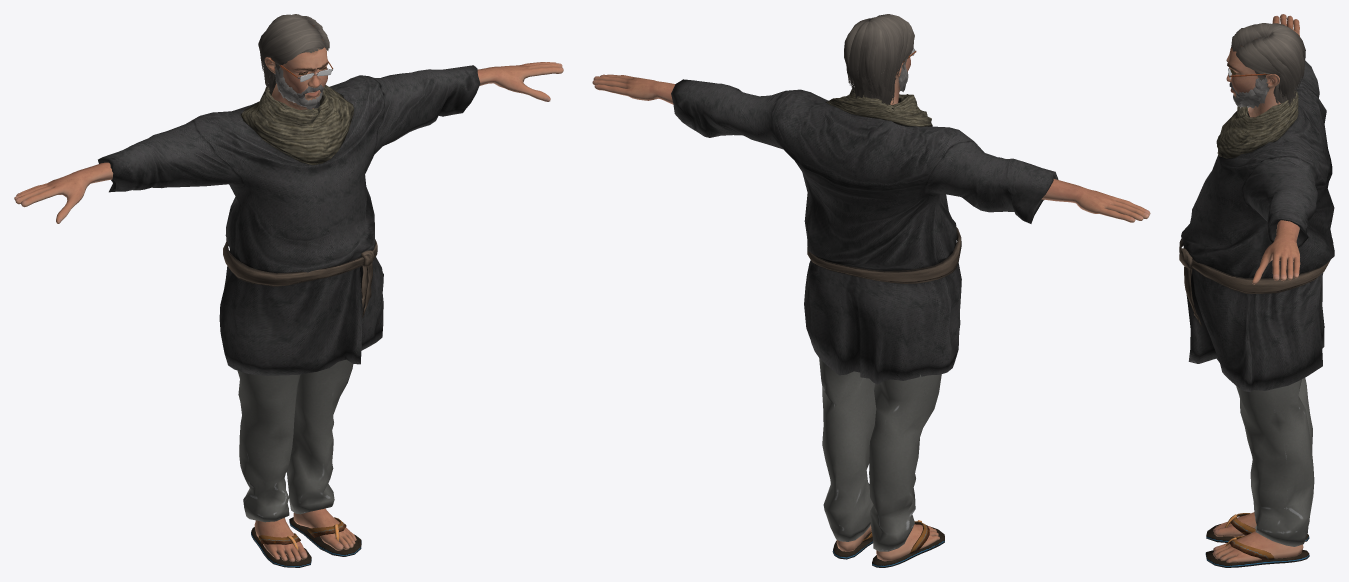
File: HasanDED.obj
3 views of the same model, side by side, from view 1: azimuth 30°, elevation 25°; view 2: azimuth 150°, elevation 25°; view 3: azimuth 270°, elevation 25° (orthographic).
Visible parts, largest first — view 1: Tops, Bottoms, Body, Hair, Shoes; view 2: Tops, Bottoms, Body, Hair, Shoes; view 3: Tops, Bottoms, Body, Hair, Shoes, Beards.
Boxes of the visible parts, box(x1,y1,x2,y2) form: Tops: box(98, 65, 480, 375); Bottoms: box(237, 359, 353, 522); Body: box(14, 25, 563, 562); Hair: box(258, 14, 329, 92); Shoes: box(251, 517, 361, 567); Tops: box(671, 79, 1058, 384); Bottoms: box(819, 358, 941, 551); Body: box(592, 57, 1150, 561); Hair: box(844, 14, 914, 104); Shoes: box(832, 520, 944, 567); Tops: box(1179, 60, 1334, 391); Bottoms: box(1236, 378, 1314, 546); Body: box(1212, 14, 1303, 562); Hair: box(1231, 23, 1305, 105); Shoes: box(1205, 513, 1309, 567); Beards: box(1233, 78, 1269, 108).
Size of the model in its own units: 196 by 179 by 48.33.
Materials: 8 (8 with a texture image).
